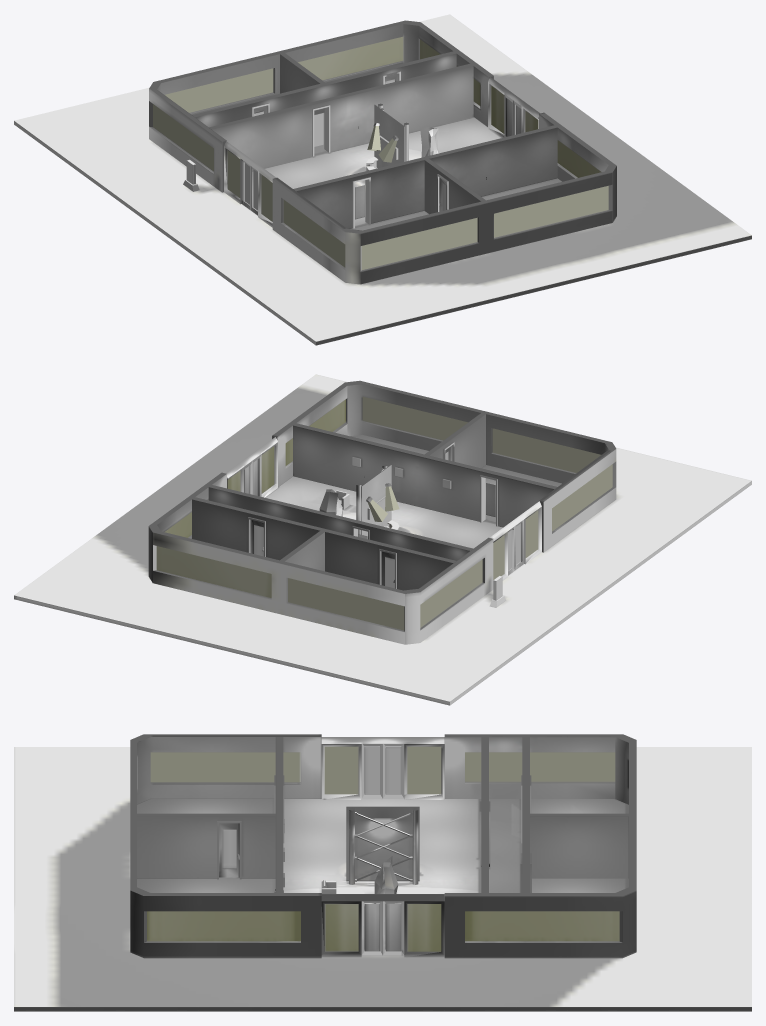
The model's file is office5_lightmap.fbx.
The picture shows the model from 3 angles, top to bottom: view 1: azimuth 30°, elevation 25°; view 2: azimuth 150°, elevation 25°; view 3: azimuth 270°, elevation 25°; orthographic projection. The views are drawn at different scales.
Visible parts, largest first — view 1: outside, insidewall, windows_PASS1, insidewall2, floor, objects, doorframes; view 2: outside, insidewall, windows_PASS1, insidewall2, floor, objects, doorframes; view 3: outside, windows_PASS1, floor, insidewall2, insidewall, objects, doorframes, sdoorglass1_DS_PASS1, sdoorglass2_DS_PASS1, sdoorglass3_DS_PASS1, sdoorglass4_DS_PASS1, door4 (+5 smaller).
Part boxes in pixels (x1,y1,x2,y2): outside: [14, 14, 751, 345]; insidewall: [192, 51, 557, 228]; windows_PASS1: [153, 36, 608, 269]; insidewall2: [149, 20, 616, 271]; floor: [245, 79, 561, 230]; objects: [243, 77, 539, 201]; doorframes: [252, 71, 448, 228]; outside: [14, 374, 751, 705]; insidewall: [192, 413, 557, 590]; windows_PASS1: [156, 396, 612, 630]; insidewall2: [149, 380, 616, 631]; floor: [265, 435, 561, 571]; objects: [226, 437, 522, 561]; doorframes: [248, 442, 497, 588]; outside: [14, 747, 751, 1011]; windows_PASS1: [147, 746, 619, 951]; floor: [137, 799, 628, 903]; insidewall2: [130, 734, 636, 942]; insidewall: [137, 737, 628, 892]; objects: [321, 737, 444, 903]; doorframes: [217, 775, 531, 892]; sdoorglass1_DS_PASS1: [386, 903, 401, 951]; sdoorglass2_DS_PASS1: [364, 903, 379, 951]; sdoorglass3_DS_PASS1: [386, 747, 401, 794]; sdoorglass4_DS_PASS1: [364, 747, 379, 794]; door4: [219, 823, 239, 877].
Bounding box in the file's own units: 2743 × 389 × 3292.
1 material, 1 textured.
